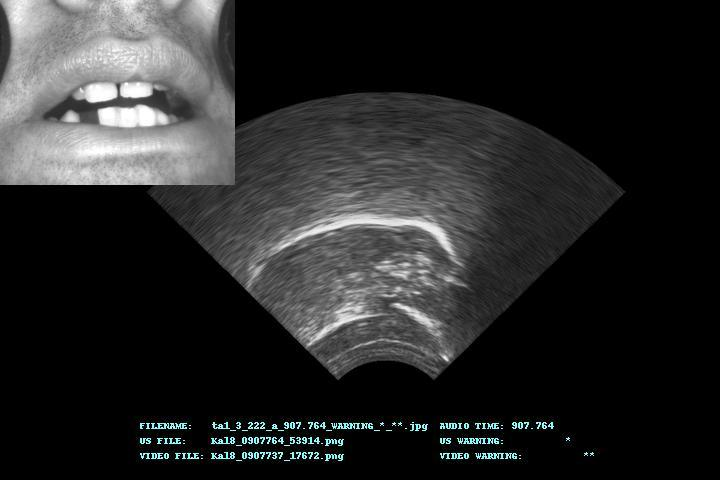-a-: (150, 94, 623, 378)
